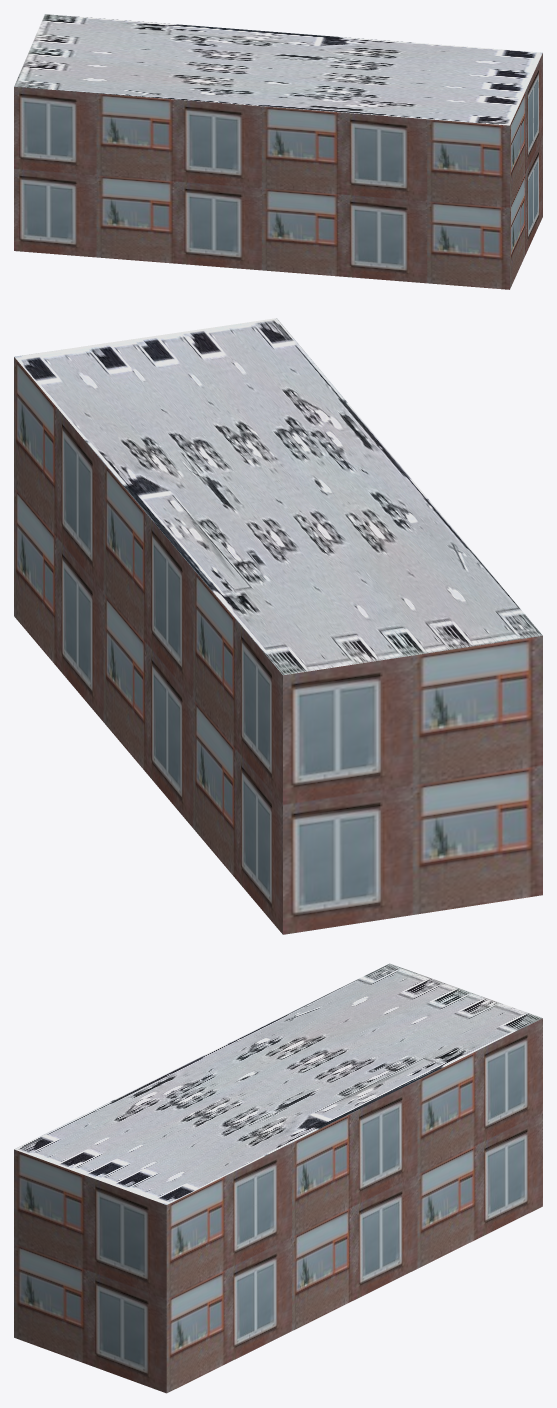
Rendered from ResTex__1761.fbx.
The picture shows the model from 3 angles, top to bottom: view 1: azimuth 30°, elevation 25°; view 2: azimuth 150°, elevation 25°; view 3: azimuth 270°, elevation 25°; orthographic projection. The views are drawn at different scales.
Visible parts, largest first — view 1: CityEngineMaterial_19_m, CityEngineMaterial_15_m; view 2: CityEngineMaterial_19_m, CityEngineMaterial_15_m; view 3: CityEngineMaterial_19_m, CityEngineMaterial_15_m.
Part boxes in pixels (box(x1,y1,x2,y2)): CityEngineMaterial_19_m: box(14, 53, 542, 289); CityEngineMaterial_15_m: box(14, 14, 542, 125); CityEngineMaterial_19_m: box(14, 357, 542, 934); CityEngineMaterial_15_m: box(14, 318, 542, 675); CityEngineMaterial_19_m: box(14, 1018, 542, 1393); CityEngineMaterial_15_m: box(14, 963, 542, 1204).
Size of the model in its own units: 16.52 by 6 by 15.28.
2 materials, 2 textured.
